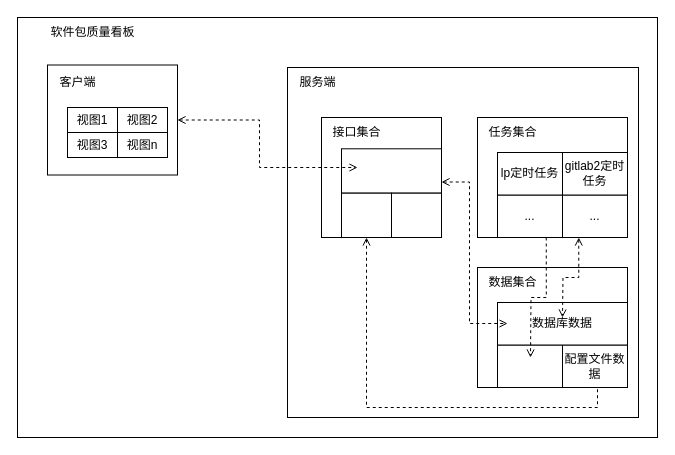
Image size: 675x455. Some labels were removed from this diagram. Each missing label, with the centre of its shape:
"CI上传接口" belongs at pixel 366 215.
"客户端接口" belongs at pixel 391 170.
"日志数据" belongs at pixel 529 366.
"查询接口" belongs at pixel 416 215.
